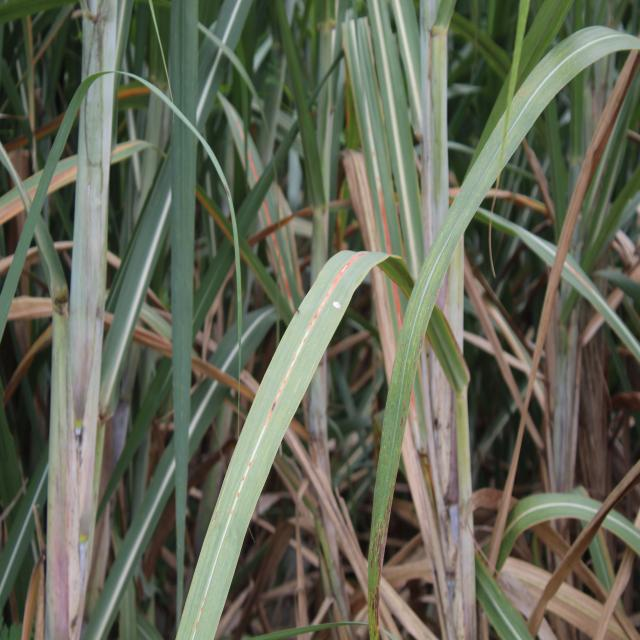Sugarcane: (176, 248, 366, 640), (98, 3, 275, 421), (508, 30, 638, 593), (1, 81, 94, 410), (98, 146, 177, 416), (104, 72, 236, 211), (84, 351, 176, 550), (464, 0, 547, 208), (573, 41, 639, 284), (550, 244, 640, 388), (205, 187, 295, 330), (200, 302, 284, 451), (270, 3, 322, 213), (341, 14, 388, 227), (197, 1, 263, 148), (230, 113, 300, 249), (0, 448, 50, 638), (103, 0, 141, 248), (497, 489, 604, 572), (184, 232, 245, 367), (258, 7, 290, 220), (384, 0, 426, 158), (472, 553, 540, 640), (444, 6, 514, 87), (568, 3, 594, 219), (539, 72, 570, 250), (40, 5, 77, 130), (31, 198, 67, 312), (462, 202, 544, 252), (16, 355, 48, 482), (0, 124, 32, 228), (0, 13, 29, 125), (0, 0, 82, 30), (236, 621, 358, 640), (131, 1, 152, 104), (109, 139, 161, 167)
